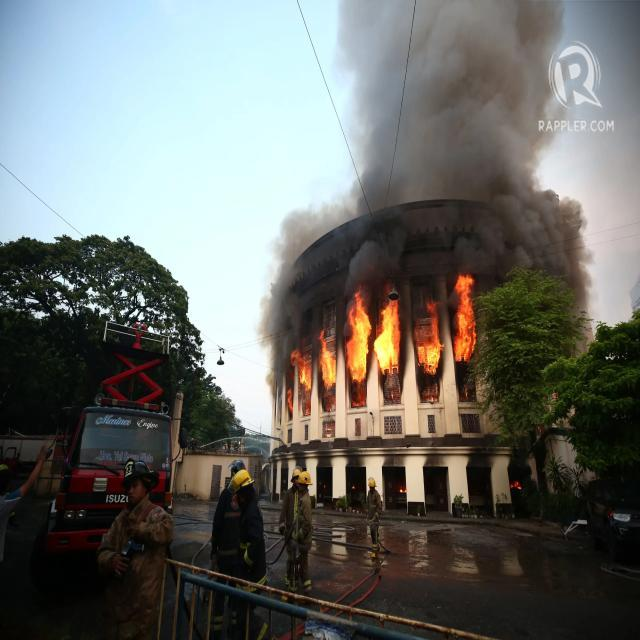Fire: (278, 248, 508, 406)
Smoke: (338, 0, 536, 262), (498, 189, 594, 295), (268, 226, 354, 338)
